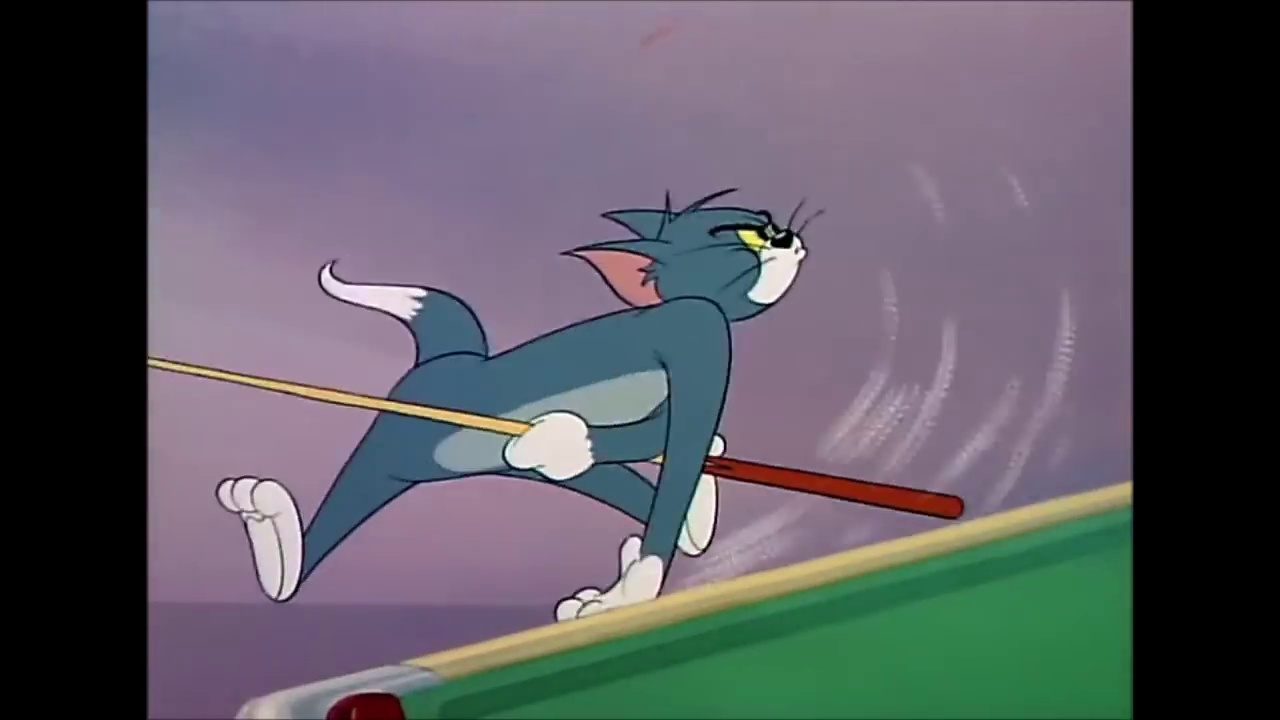angry: (720, 205, 808, 304)
